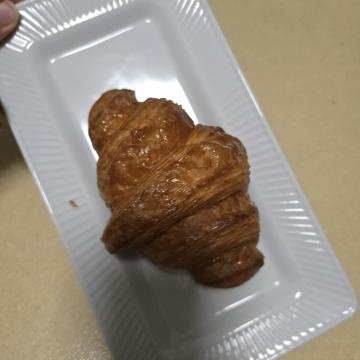croissant: (80, 90, 300, 285)
